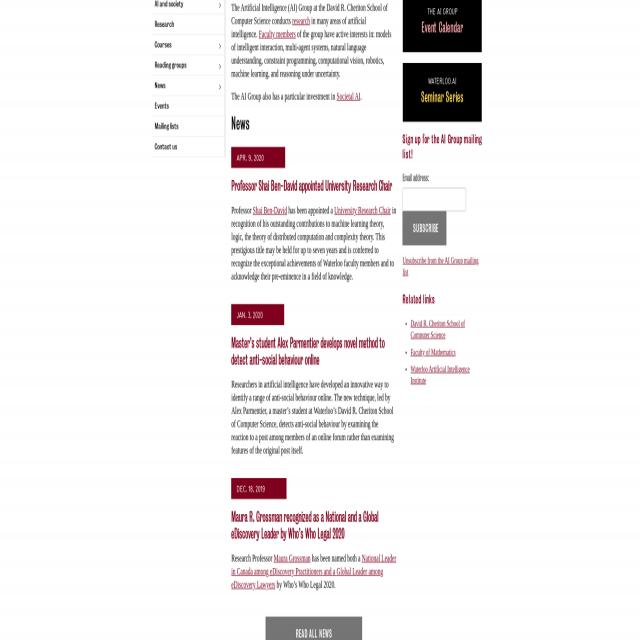button: (403, 62, 482, 123), (403, 0, 482, 53), (265, 616, 362, 640), (152, 116, 226, 137), (152, 136, 226, 157), (152, 14, 226, 35), (152, 55, 226, 76), (152, 75, 226, 96), (152, 96, 226, 116), (152, 35, 226, 55), (403, 212, 446, 246), (152, 0, 226, 14)
field: (403, 188, 466, 212)
